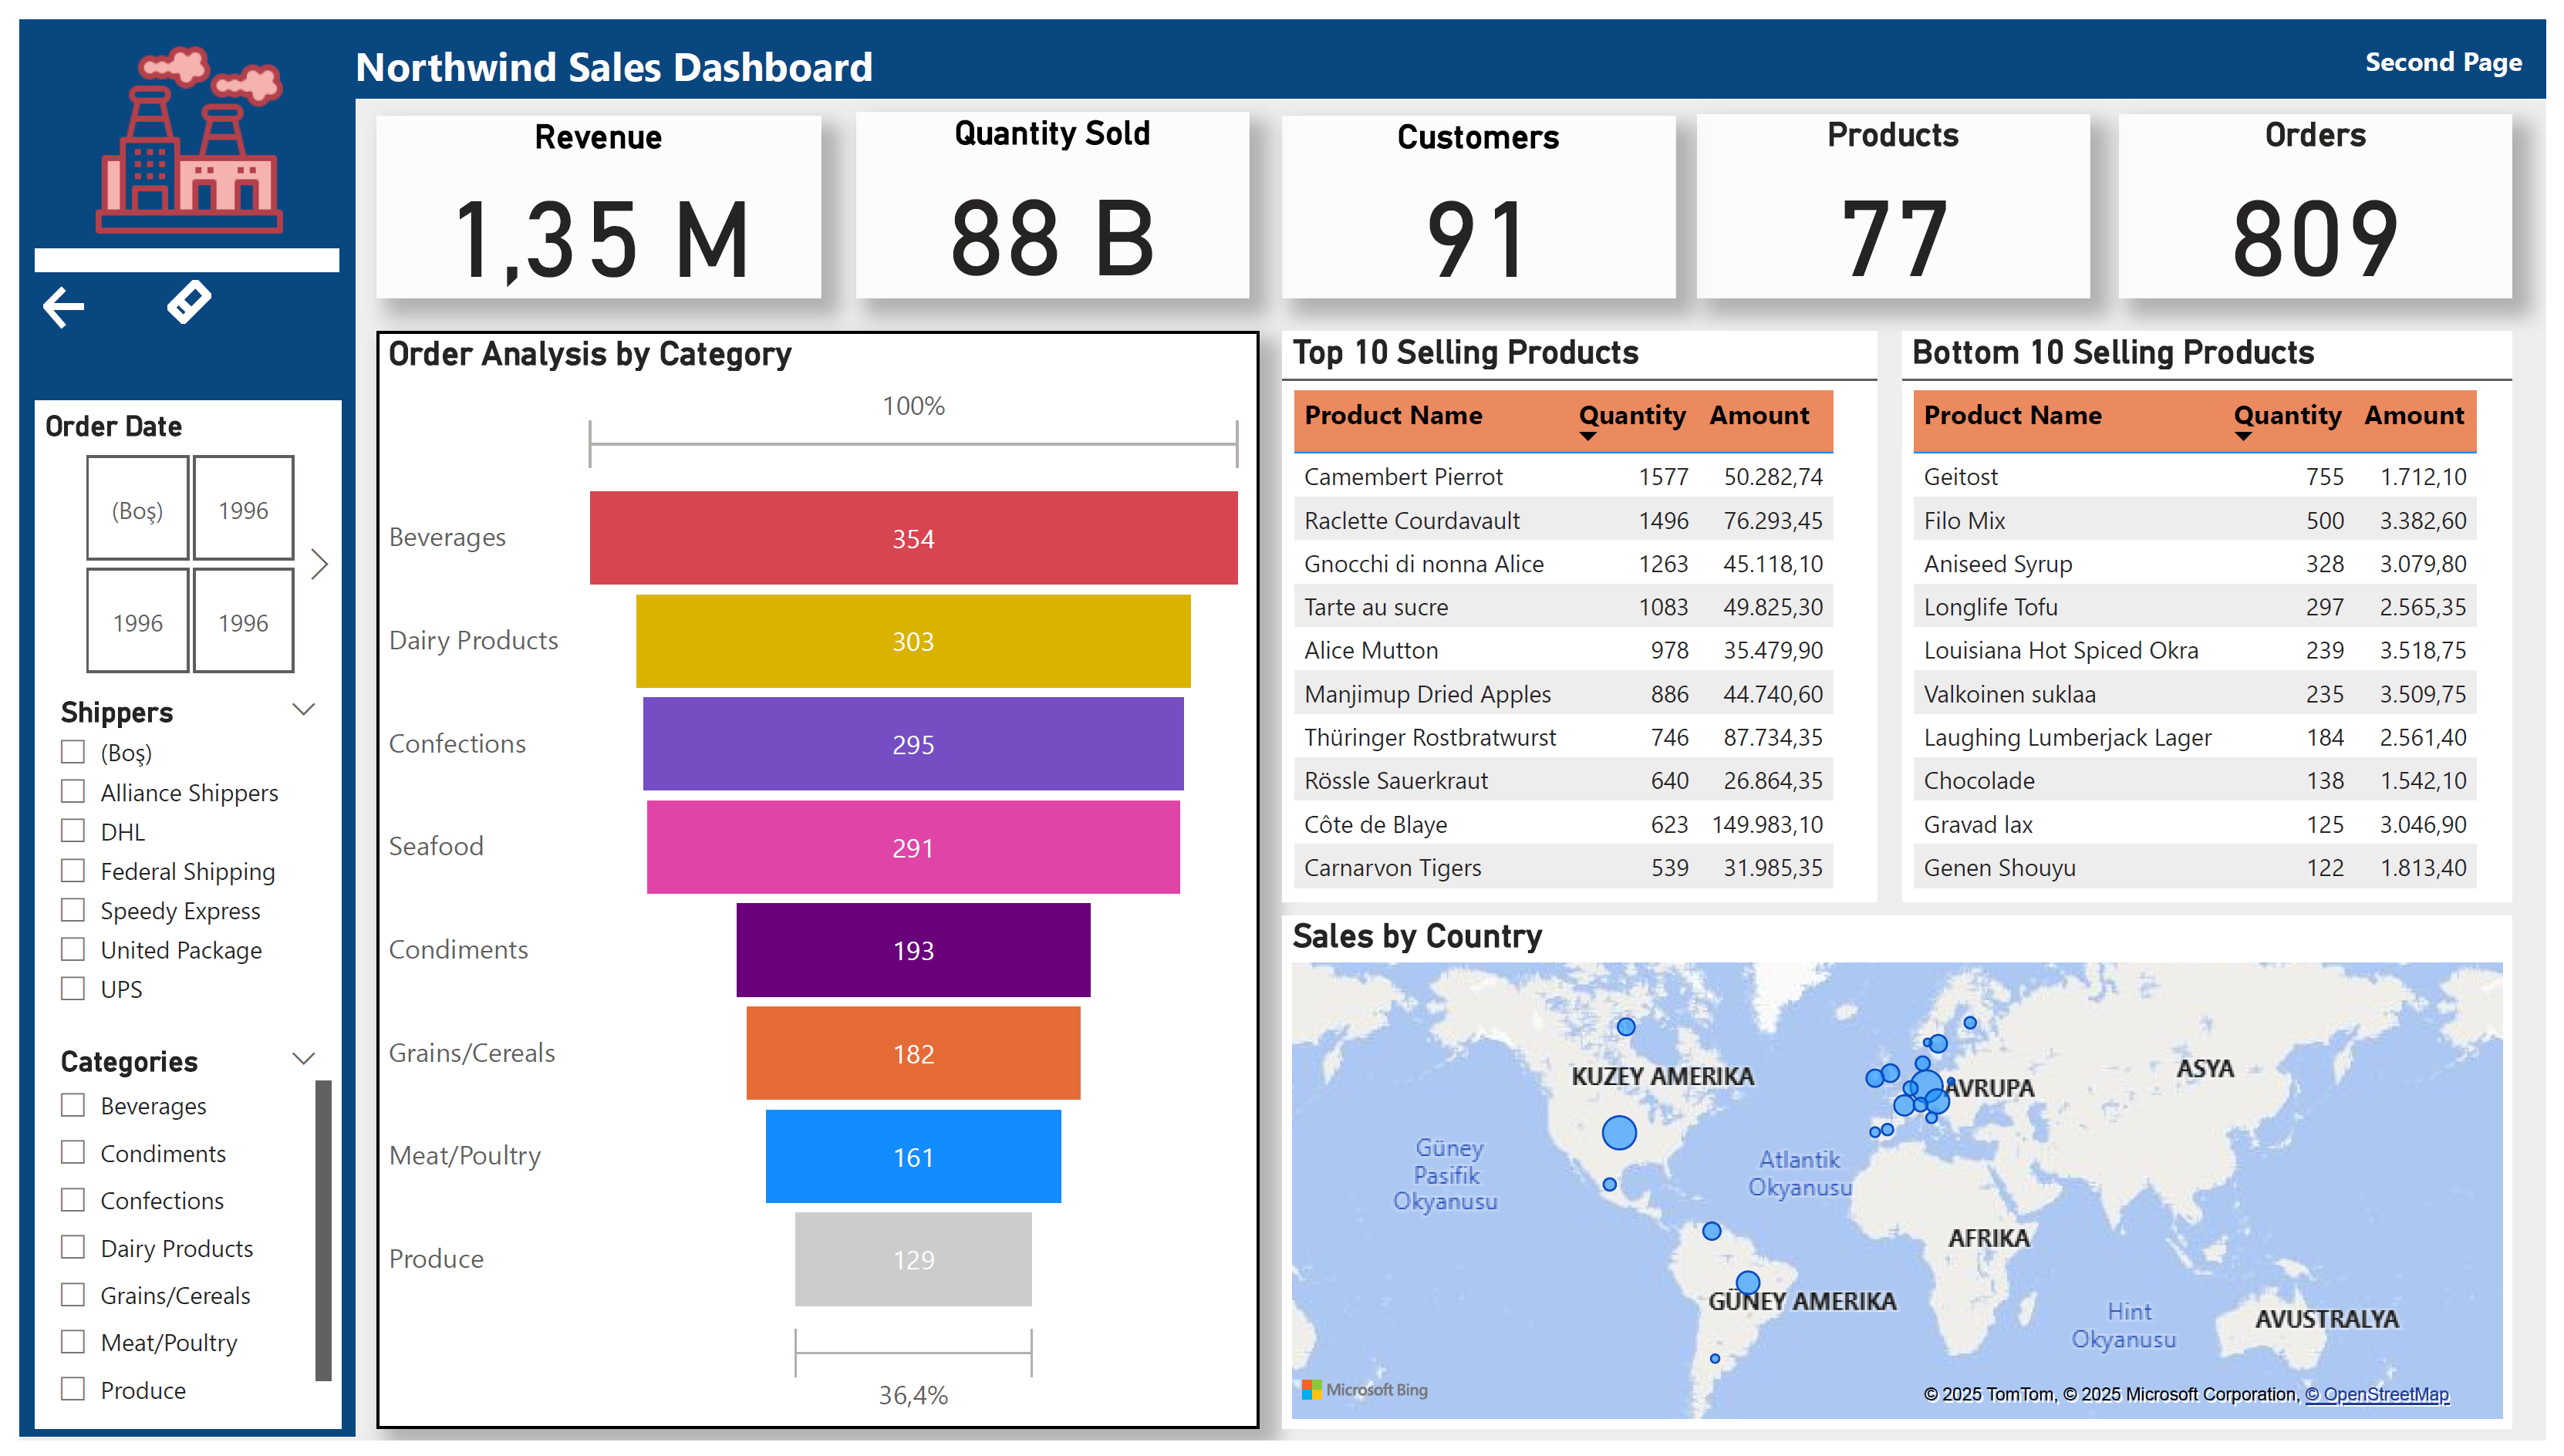

Layout of this report page (visuals, bound fields, positions):
{"tool":"powerbi","page":{"name":"Second Page","canvas":[1280,720],"ordinal":1},"visuals":[{"type":"card","title":"Customers","fields":{"Values":["CountNonNull(customers.cnt)"]},"box":[640,49.1,199.1,91.8],"z":0},{"type":"shape","box":[0,0,1280,40],"z":1000},{"type":"card","title":"Products","fields":{"Values":["CountNonNull(products.productid)"]},"box":[850,48.2,199.1,92.7],"z":2000},{"type":"card","title":"Orders","fields":{"Values":["CountNonNull(orders.orderid)"]},"box":[1063.6,48.2,199.1,92.7],"z":3000},{"type":"card","title":"Revenue","fields":{"Values":["Sum(order_details.totalamount)"]},"box":[180.9,49.1,225.5,91.8],"z":4000},{"type":"card","title":"Quantity Sold","fields":{"Values":["Sum(order_details.productid)"]},"box":[423.6,47.3,199.1,93.6],"z":5000},{"type":"shape","box":[0,40,170,678.2],"z":6000},{"type":"slicer","title":"Order Date","fields":{"Values":["orders.orderdate"]},"box":[8.2,192.7,154.5,145.5],"z":7000},{"type":"slicer","fields":{"Values":["shippers.companyname"]},"box":[8.2,338.2,154.5,176.4],"z":8000},{"type":"slicer","fields":{"Values":["categories.categoryname"]},"box":[8.2,514.5,154.5,199.1],"z":9000},{"type":"actionButton","box":[71.4,127.9,30,30],"z":10000},{"type":"actionButton","box":[7.9,130.7,30,30],"z":11000},{"type":"pageNavigator","box":[1063.6,1.8,216.4,37.3],"z":12000},{"type":"image","box":[8.2,7.3,154.5,108.2],"z":13000},{"type":"shape","box":[7.9,115.7,154.3,12.1],"z":14000},{"type":"funnel","title":"Order Analysis by Category","fields":{"Category":["categories.categoryname"],"Y":["Count(order_details.orderid)"]},"box":[180.7,157.9,447.1,555.7],"z":15000},{"type":"tableEx","title":"Top 10 Selling Products","fields":{"Values":["products.productname","Sum(order_details.quantity)","Sum(order_details.totalamount)"]},"box":[640,157.9,300.7,289.3],"z":16000},{"type":"tableEx","title":"Bottom 10 Selling Products","fields":{"Values":["products.productname","Sum(order_details.quantity)","Sum(order_details.totalamount)"]},"box":[954.3,157.9,308.6,289.3],"z":17000},{"type":"map","title":"Sales by Country","fields":{"Category":["orders.shipcountry"],"Size":["Sum(order_details.totalamount)"]},"box":[640,453.6,622.9,260.7],"z":18000}]}

Visuals, with their boxes in screenshot pixels (x1, y1, x2, y2), scaled from the page's 1280x720 canvas onto the 2564x1456 screenshot:
"Customers" card: pyautogui.locateOnScreen(1282, 99, 1681, 285)
shape: pyautogui.locateOnScreen(0, 0, 2563, 81)
"Products" card: pyautogui.locateOnScreen(1702, 97, 2101, 285)
"Orders" card: pyautogui.locateOnScreen(2130, 97, 2529, 285)
"Revenue" card: pyautogui.locateOnScreen(363, 99, 814, 285)
"Quantity Sold" card: pyautogui.locateOnScreen(848, 96, 1247, 285)
shape: pyautogui.locateOnScreen(0, 81, 340, 1452)
"Order Date" slicer: pyautogui.locateOnScreen(16, 389, 326, 684)
slicer - shippers.companyname: pyautogui.locateOnScreen(16, 684, 326, 1040)
slicer - categories.categoryname: pyautogui.locateOnScreen(16, 1040, 326, 1443)
actionButton: pyautogui.locateOnScreen(143, 258, 203, 319)
actionButton: pyautogui.locateOnScreen(16, 265, 76, 325)
pageNavigator: pyautogui.locateOnScreen(2130, 4, 2563, 79)
image: pyautogui.locateOnScreen(16, 15, 326, 234)
shape: pyautogui.locateOnScreen(16, 234, 325, 258)
"Order Analysis by Category" funnel: pyautogui.locateOnScreen(362, 319, 1257, 1443)
"Top 10 Selling Products" tableEx: pyautogui.locateOnScreen(1282, 319, 1884, 905)
"Bottom 10 Selling Products" tableEx: pyautogui.locateOnScreen(1911, 319, 2530, 905)
"Sales by Country" map: pyautogui.locateOnScreen(1282, 917, 2530, 1444)
